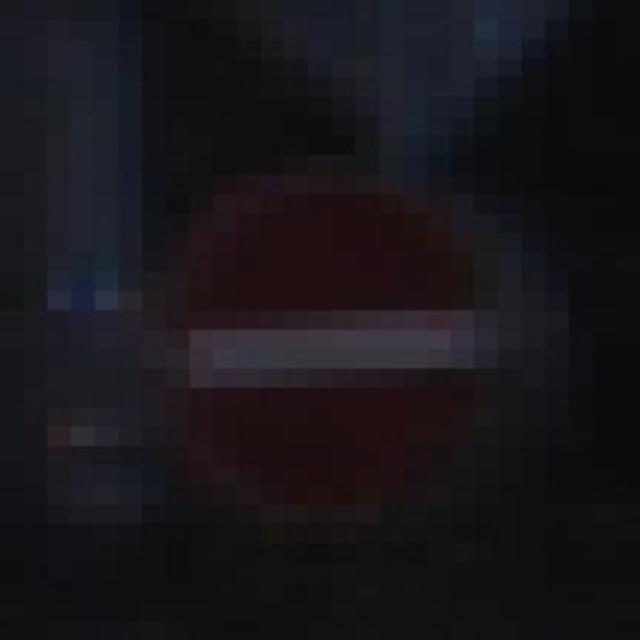B2: (141, 174, 514, 538)
